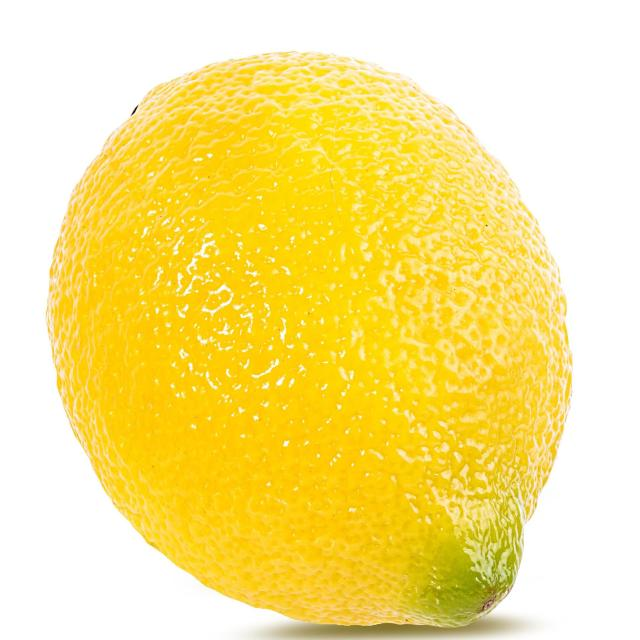lemon: (41, 44, 578, 635)
